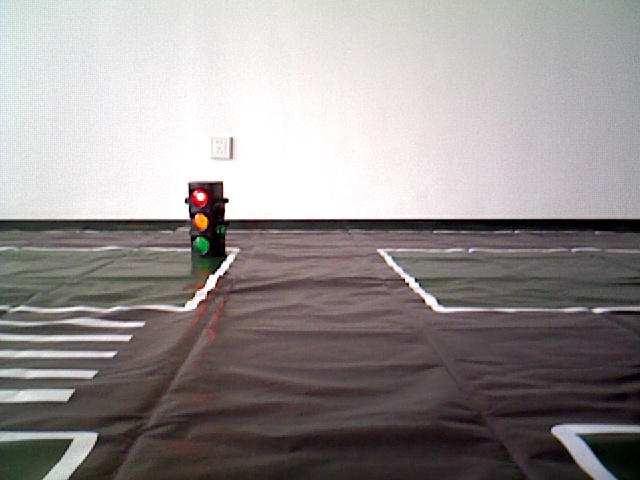red: (189, 181, 219, 255)
